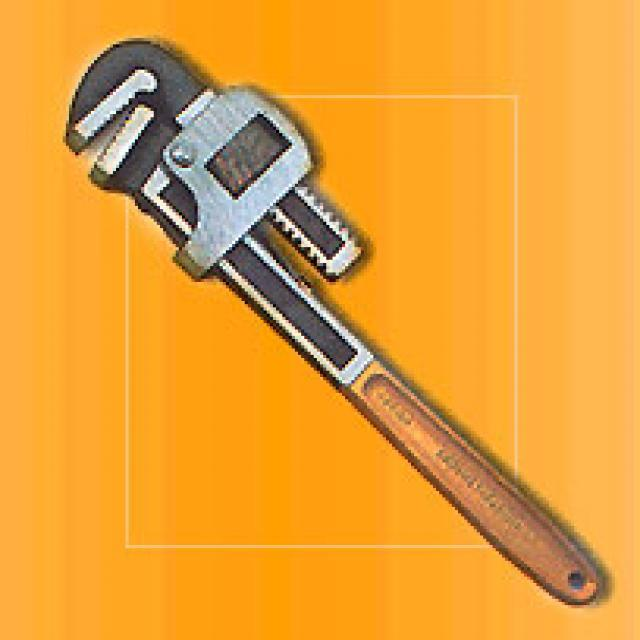wrench: (60, 28, 602, 612)
